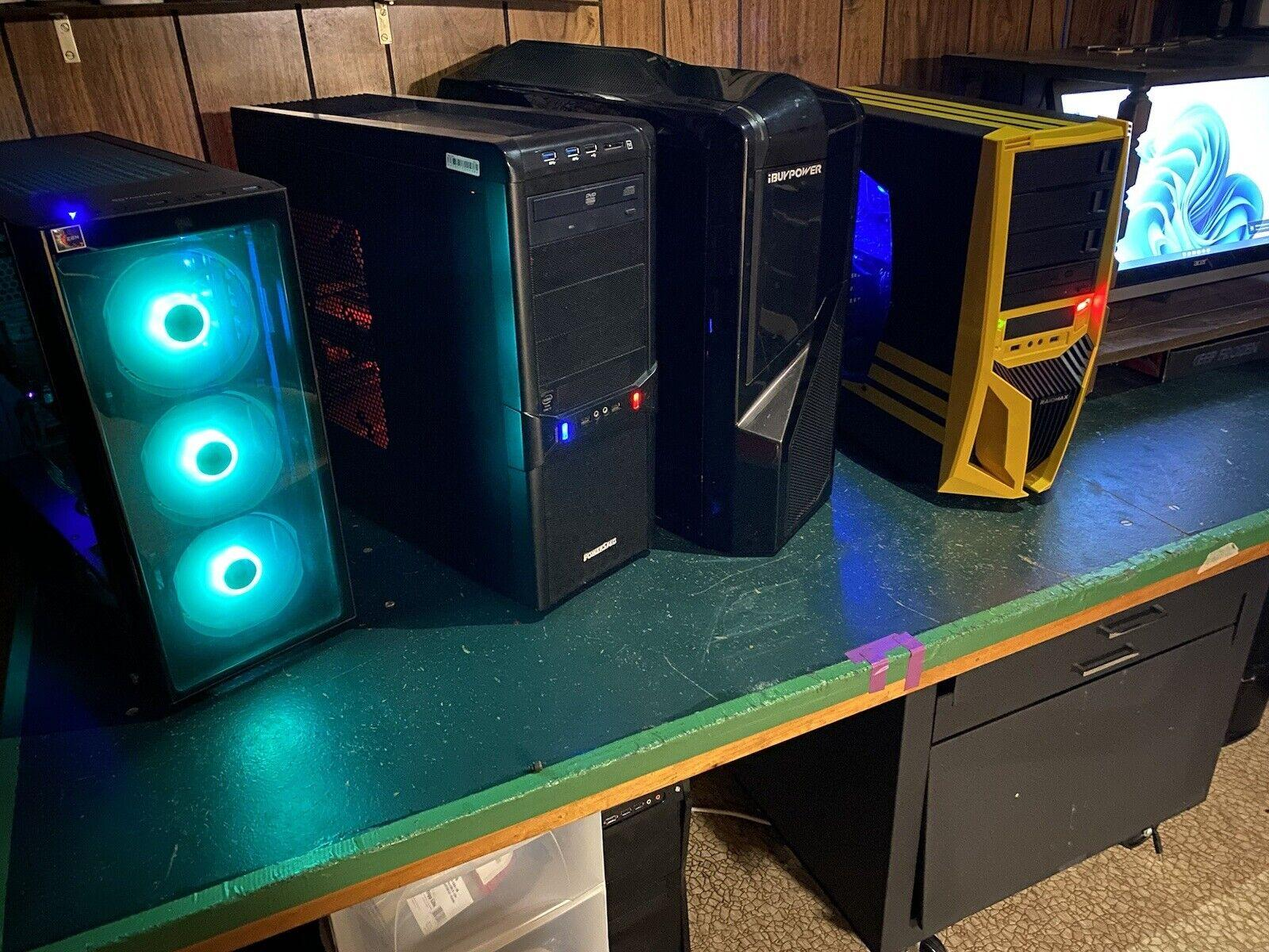computer_monitor: (1102, 67, 1269, 285)
